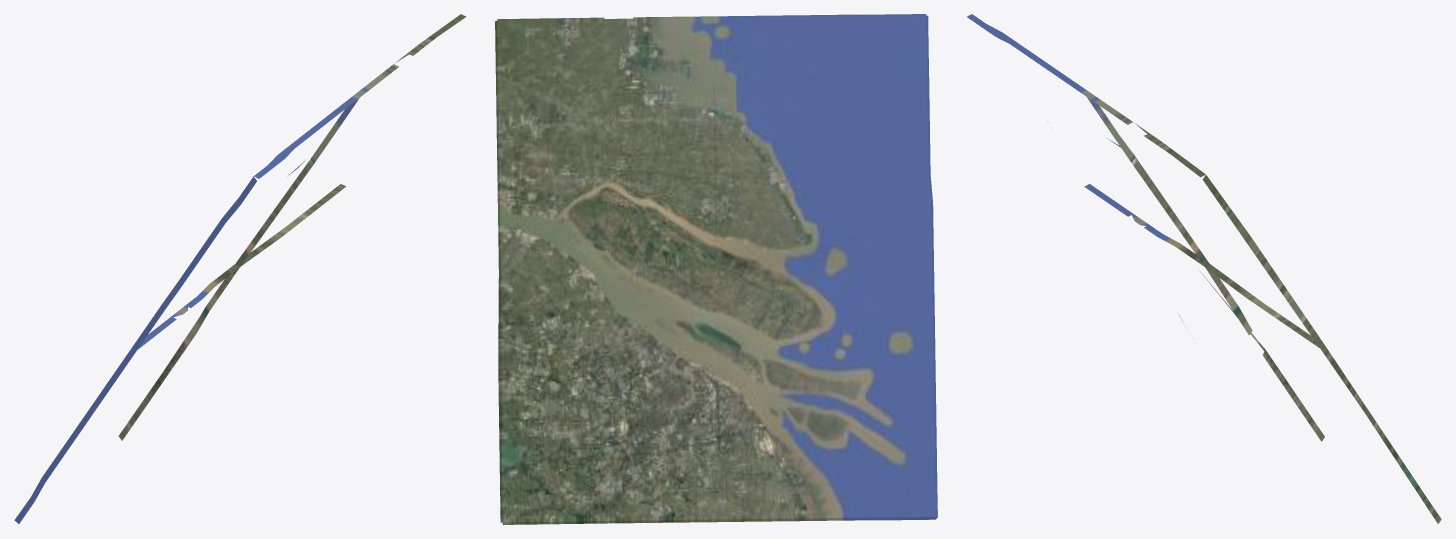
3 views of the same model, side by side, from view 1: azimuth 30°, elevation 25°; view 2: azimuth 150°, elevation 25°; view 3: azimuth 270°, elevation 25° (orthographic). The views are drawn at different scales.
Size of the model in its own units: 158982 by 135304 by 141900.
1 material, 1 textured.
